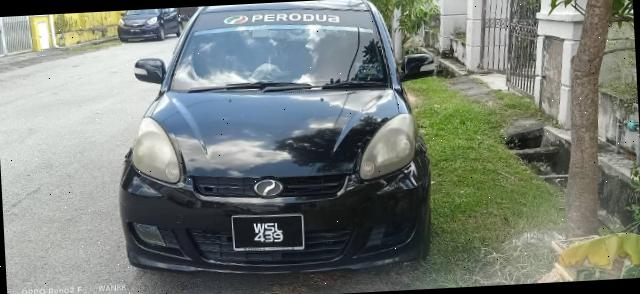License_Plate: (238, 216, 300, 248)
car: (108, 1, 433, 277)
